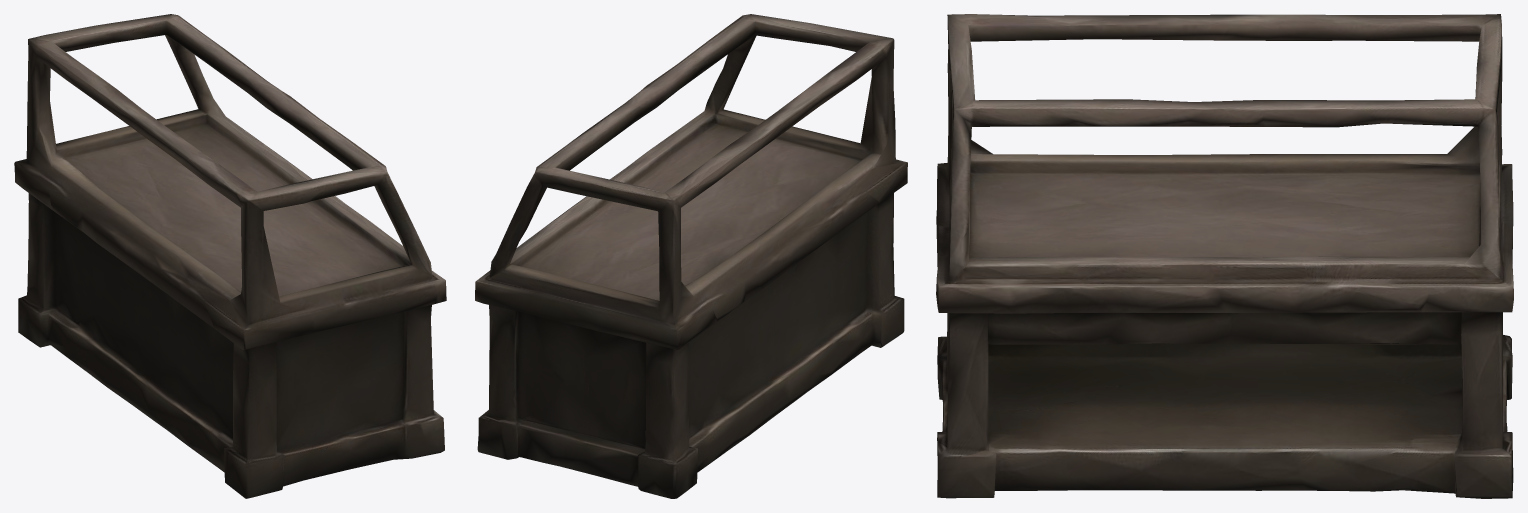
Rendered from display_case_sloped.glb.
The picture shows the model from 3 angles, left to right: view 1: azimuth 30°, elevation 25°; view 2: azimuth 150°, elevation 25°; view 3: azimuth 270°, elevation 25°; orthographic projection. The views are drawn at different scales.
Parts seen in each view (by area): view 1: tripo_node_a8a76730-a7f2-451a-b86f-c6660a8e91aa; view 2: tripo_node_a8a76730-a7f2-451a-b86f-c6660a8e91aa; view 3: tripo_node_a8a76730-a7f2-451a-b86f-c6660a8e91aa.
Boxes of the visible parts, x1,y1,x2,y2 form: tripo_node_a8a76730-a7f2-451a-b86f-c6660a8e91aa: (14, 14, 446, 498); tripo_node_a8a76730-a7f2-451a-b86f-c6660a8e91aa: (475, 14, 907, 498); tripo_node_a8a76730-a7f2-451a-b86f-c6660a8e91aa: (936, 14, 1513, 498).
Bounding box in the file's own units: 0.5129 × 0.7042 × 1.
Materials: 1 (1 with a texture image).
